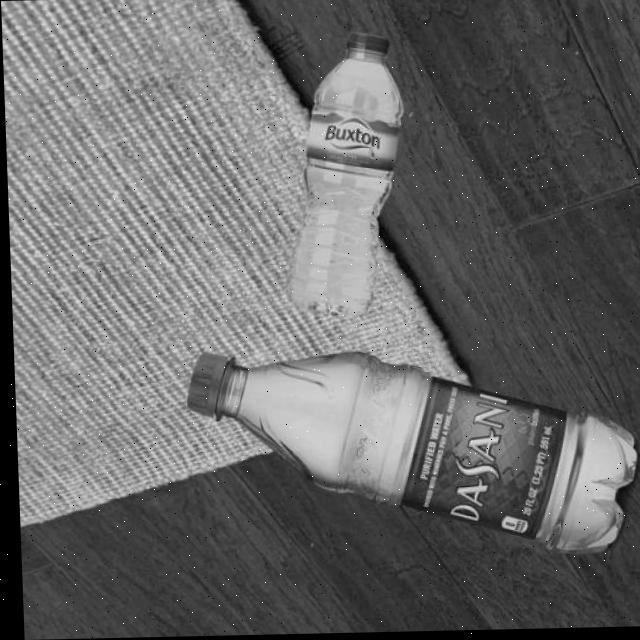bottle: (181, 343, 638, 566), (275, 32, 410, 322)
